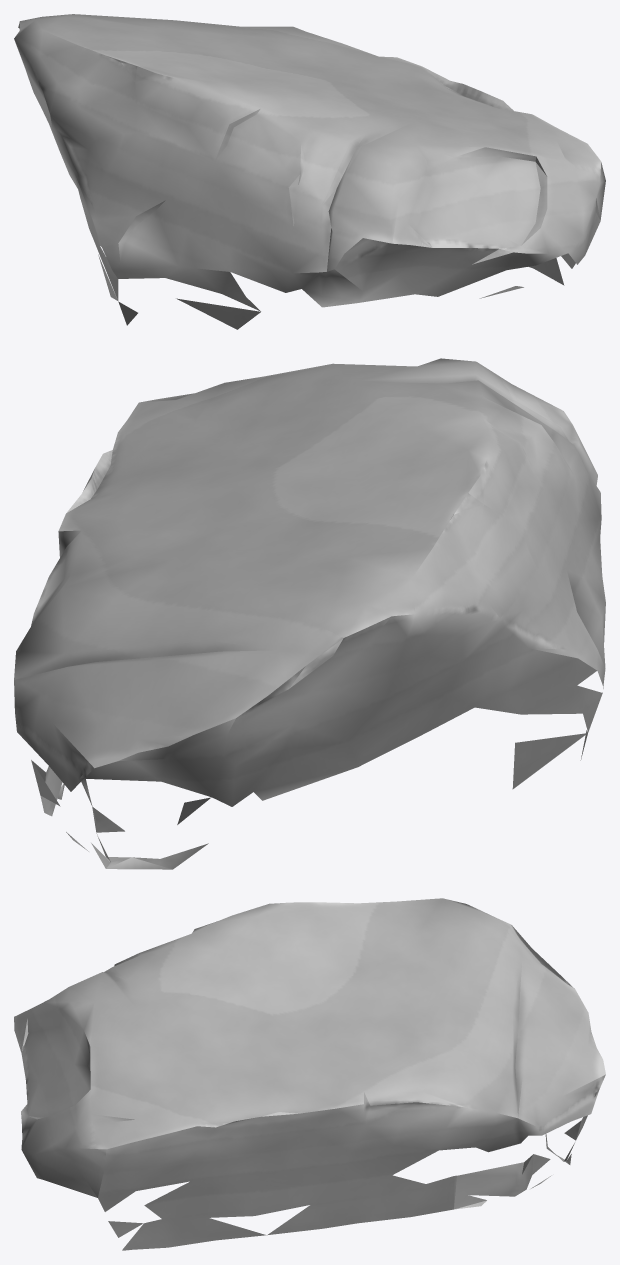
The model's file is sculpted_boulder_02.glb.
3 views of the same model, one above another, from view 1: azimuth 30°, elevation 25°; view 2: azimuth 150°, elevation 25°; view 3: azimuth 270°, elevation 25° (orthographic). The views are drawn at different scales.
Visible parts, largest first — view 1: sculpted_boulder_02; view 2: sculpted_boulder_02; view 3: sculpted_boulder_02.
Part boxes in pixels (x1=…): sculpted_boulder_02: x1=14, y1=14, x2=605, y2=329; sculpted_boulder_02: x1=14, y1=358, x2=605, y2=869; sculpted_boulder_02: x1=14, y1=898, x2=605, y2=1250.
Bounding box in the file's own units: 1.2 × 0.6115 × 1.58.
Materials: 1 (1 with a texture image).
